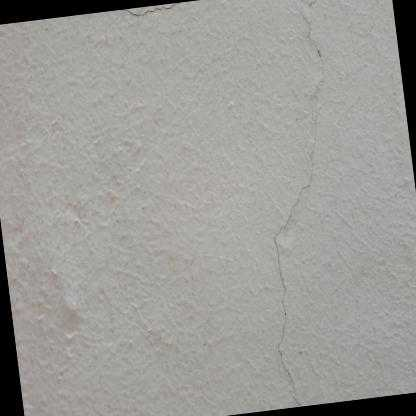crack: (272, 0, 326, 407)
